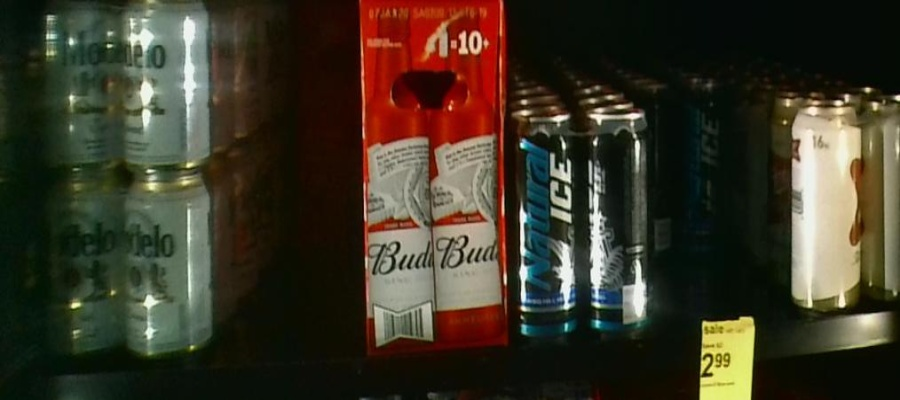bottle: (39, 1, 214, 356), (357, 1, 505, 354), (509, 113, 651, 339), (796, 101, 898, 313), (287, 1, 358, 266), (643, 81, 727, 254)
